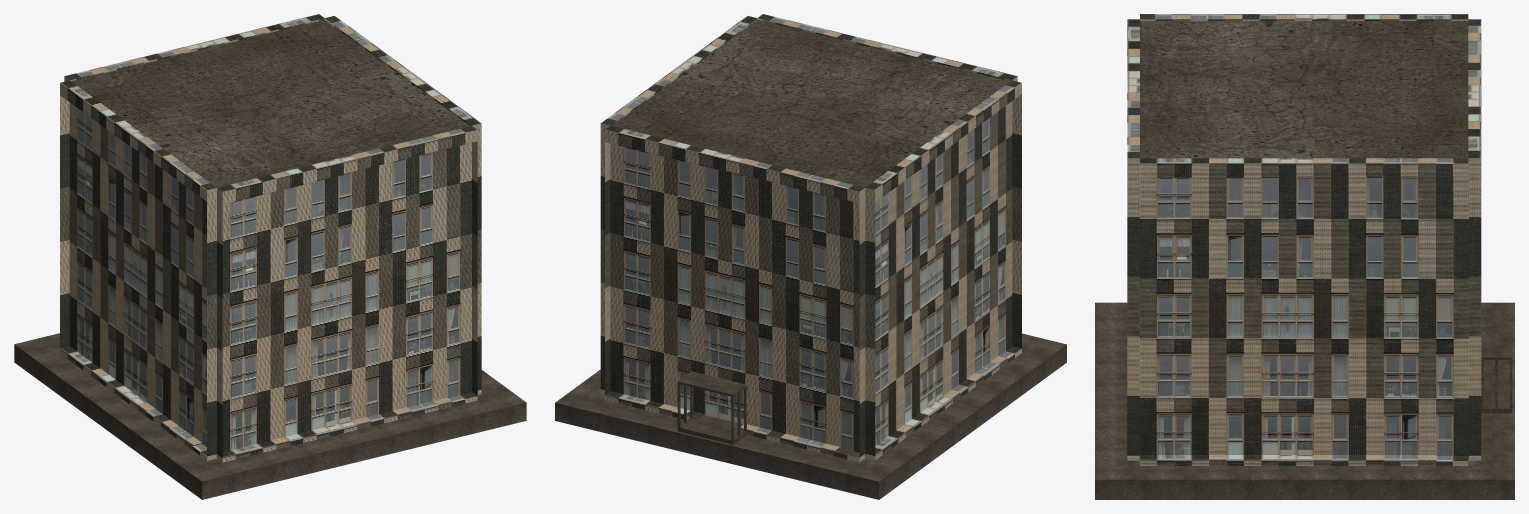
File: BagSS04base_100.fbx
The picture shows the model from 3 angles, left to right: view 1: azimuth 30°, elevation 25°; view 2: azimuth 150°, elevation 25°; view 3: azimuth 270°, elevation 25°; orthographic projection. The views are drawn at different scales.
Visible parts, largest first — view 1: baseBox100, baseRoof100, baseMain100, base_base100; view 2: baseBox100, baseRoof100, baseMain100, base_base100; view 3: baseBox100, baseRoof100, base_base100, baseMain100.
Boxes of the visible parts, bbox=[...] form: baseBox100: bbox=[69, 102, 471, 456]; baseRoof100: bbox=[71, 19, 469, 187]; baseMain100: bbox=[60, 14, 481, 462]; base_base100: bbox=[14, 333, 526, 499]; baseBox100: bbox=[610, 101, 1012, 456]; baseRoof100: bbox=[612, 19, 1009, 187]; baseMain100: bbox=[600, 14, 1021, 462]; base_base100: bbox=[555, 333, 1066, 499]; baseBox100: bbox=[1139, 160, 1468, 458]; baseRoof100: bbox=[1140, 21, 1468, 160]; base_base100: bbox=[1095, 302, 1514, 499]; baseMain100: bbox=[1127, 14, 1481, 465].
Size of the model in its own units: 26.1 by 22.2 by 26.17.
